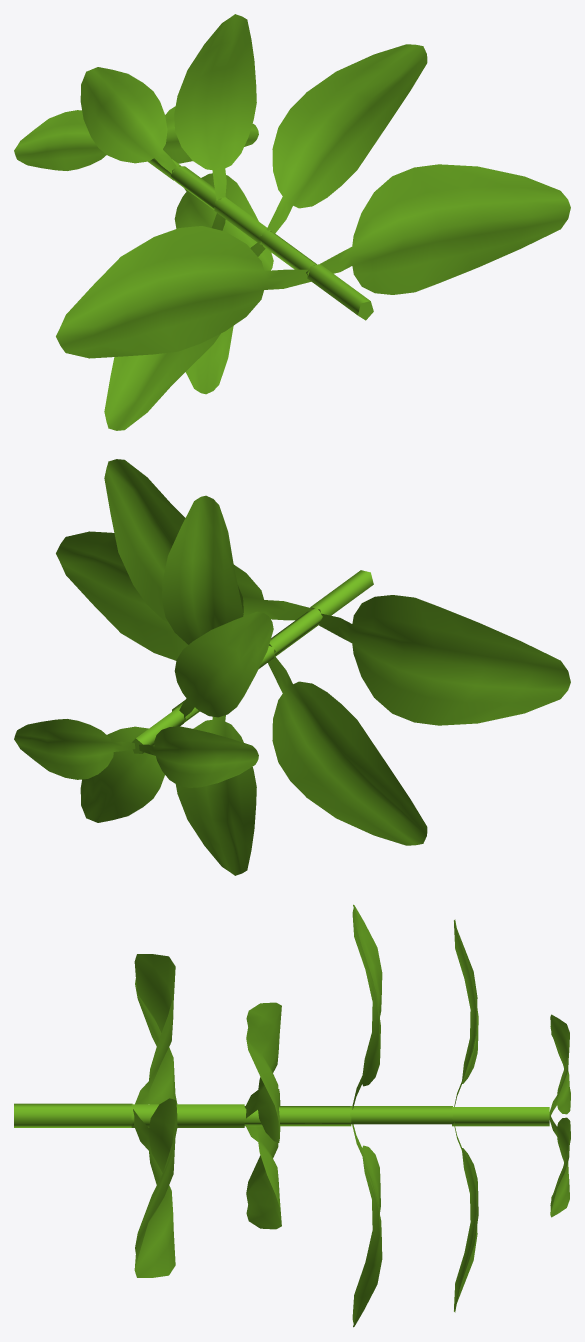
3 views of the same model, one above another, from view 1: azimuth 30°, elevation 25°; view 2: azimuth 150°, elevation 25°; view 3: azimuth 270°, elevation 25° (orthographic). The views are drawn at different scales.
Parts seen in each view (by area): view 1: Root; view 2: Root; view 3: Root.
Part boxes in pixels (x1,y1,x2,y2): Root: [14, 14, 570, 430]; Root: [14, 459, 570, 875]; Root: [14, 904, 570, 1327].
Size of the model in its own units: 3.6 by 2.49 by 2.88.
